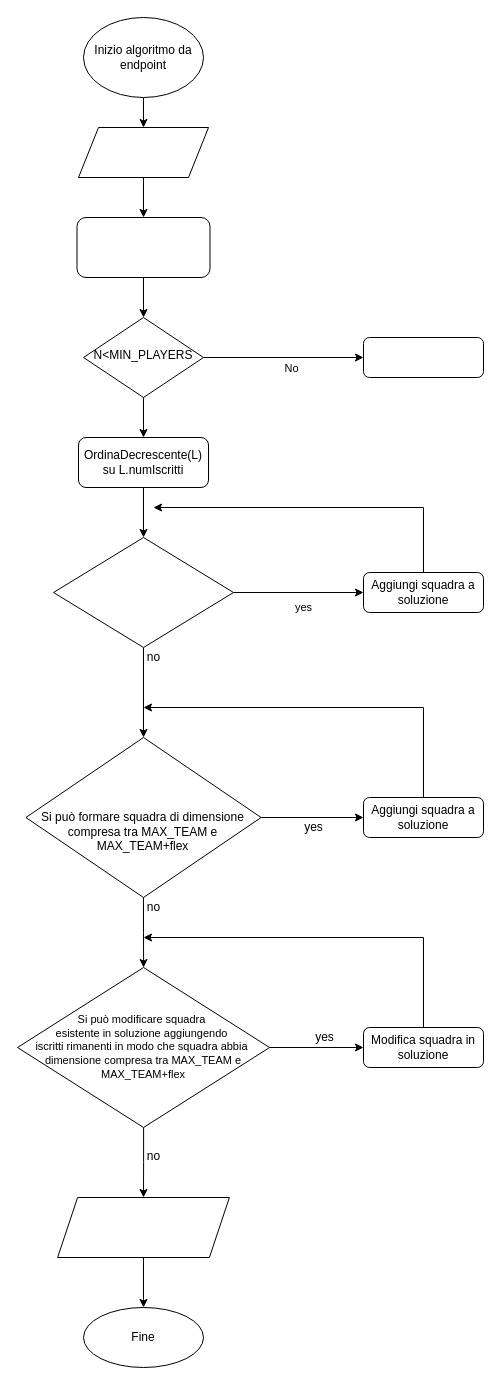
Some shapes in this 501 by 1385 pixel diagram are drawn without their labels. The shapes that lost their labels are listed below. From the top down, each one's centre as x and y in pixels, then its label:
the point at 143,152: Input: Lista di prenotazione (L)
the point at 143,247: Calcolo numero di iscritti (N=sum(L.numIscritti))
the point at 423,357: Errore
the point at 143,592: Si può formare squadra di dimensione MAX_TEAM
the point at 143,1227: Output: Squadre formate e iscrizioni non assegnate
